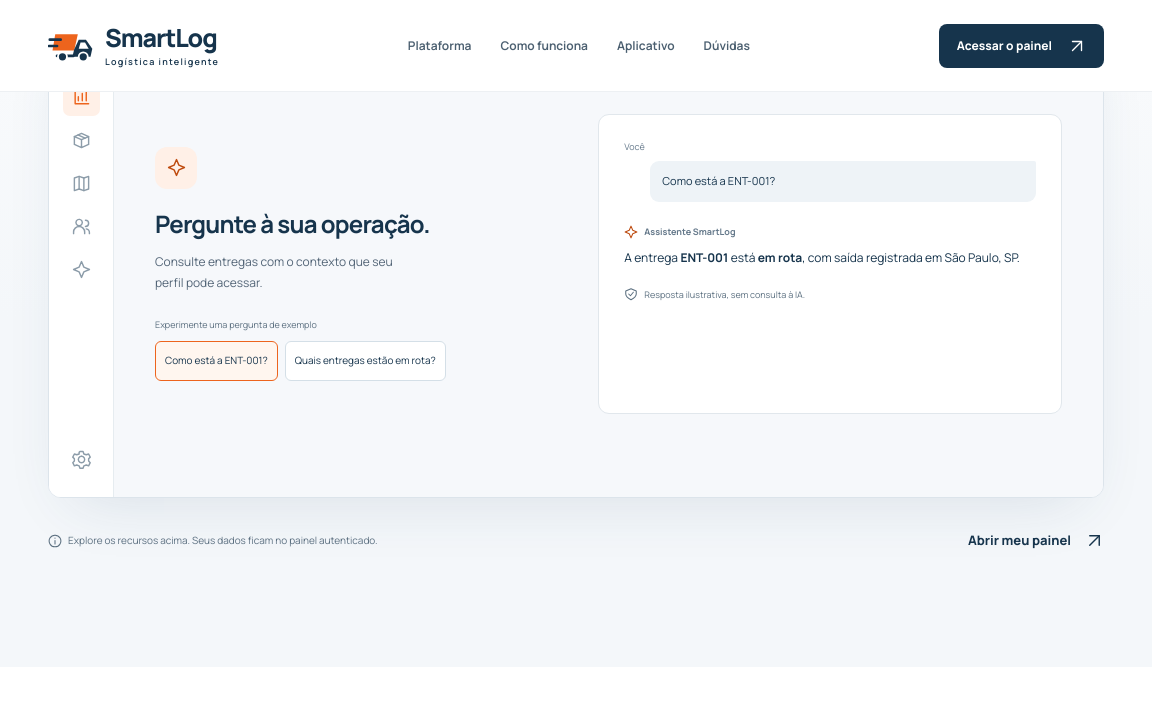
Test: Landing page pública › restaura a aba por URL e permite explorar as respostas ilustrativas sem rede
This screenshot has width=1152, height=720.
(page scrolled)
Step 1. Click the button "Quais entregas estão em rota?" → (365, 361), box [285, 341, 446, 381]
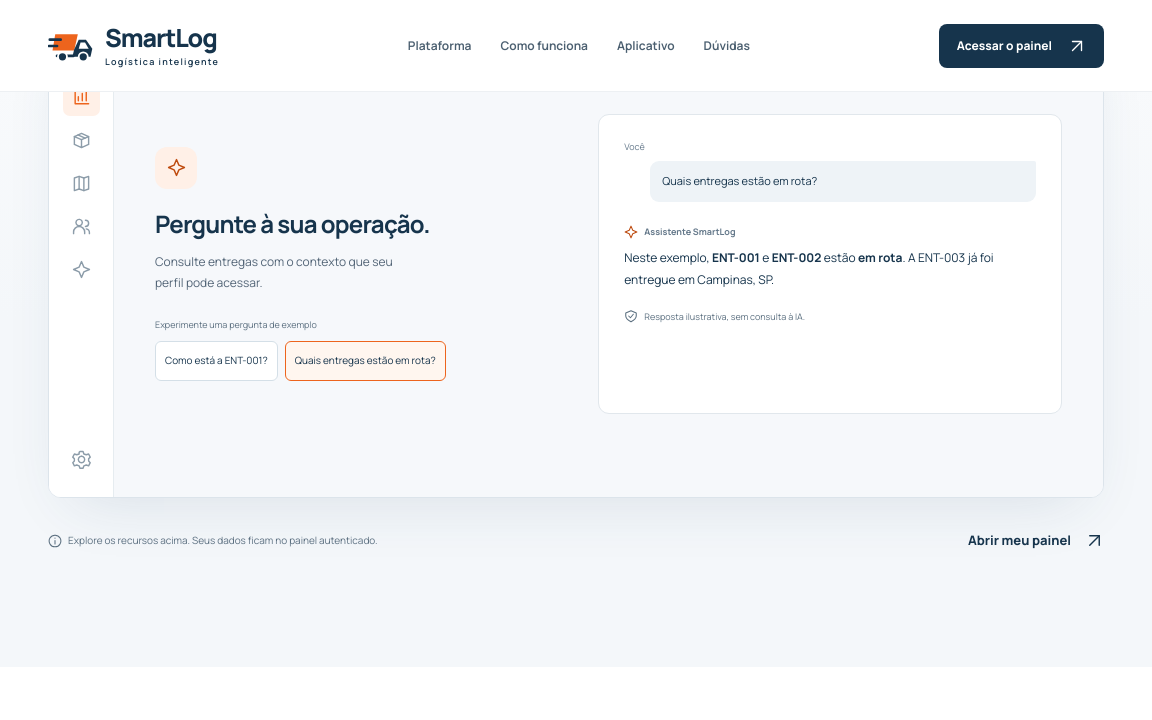
Expected: the element with class "sample-ai-message" shows "sem consulta à IA", [644, 310, 805, 323]
Expected: the element with class "sample-ai-message" shows "ENT-002", [772, 249, 821, 266]
